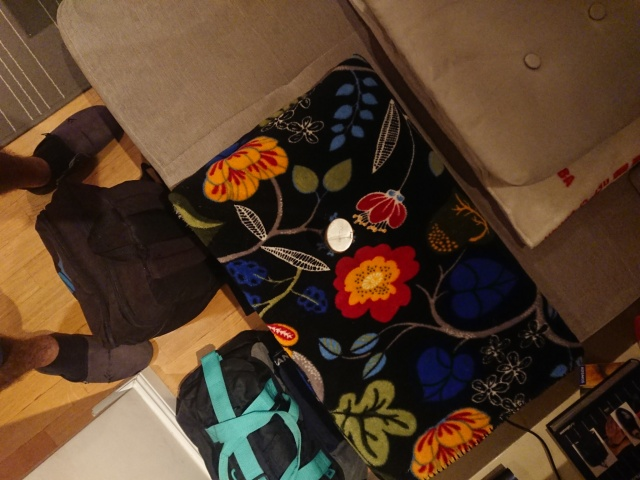Kotanyi Garlic Granules 70g: (323, 216, 356, 255)
